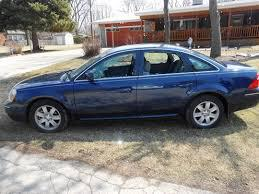doorouter-dent: (141, 51, 192, 97), (83, 55, 135, 99)
